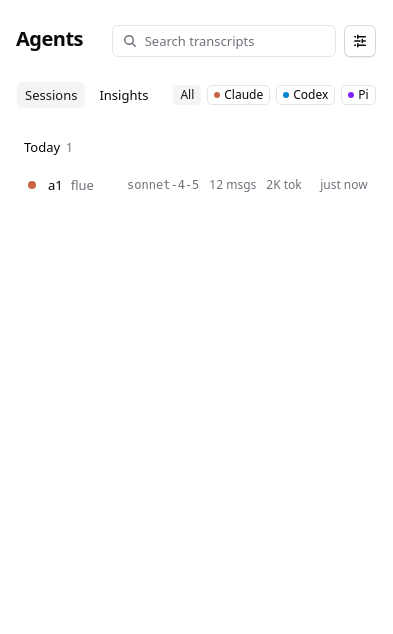
Test: AgentsRoute › switches to insights and totals what the range admits
Click the button "Insights" at (124, 95), box [90, 81, 157, 109]
(page scrolled)
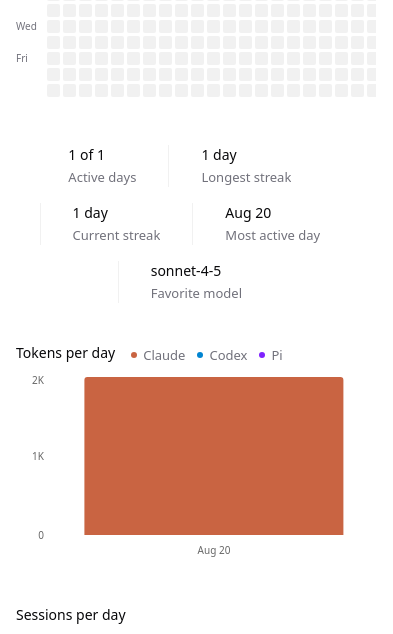
Check: the heading "Tokens per day" is shown, box [16, 343, 115, 363]
